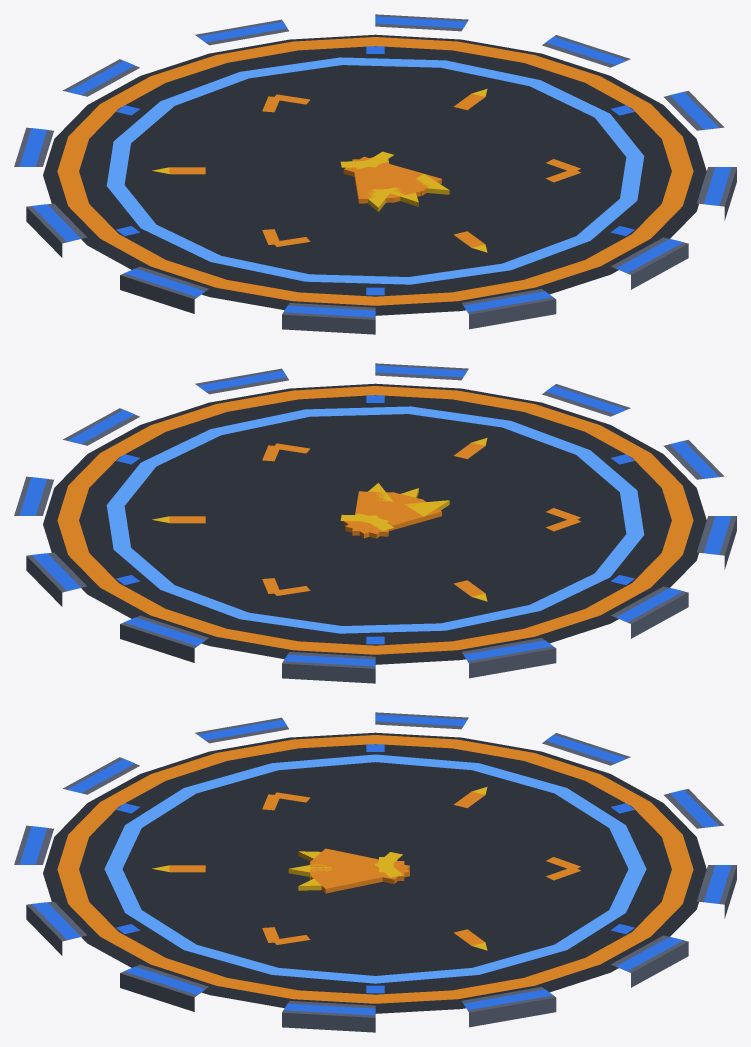
File: machine_gunner_super_rare_area.glb
3 renders of one model, top to bottom at view 1: azimuth 30°, elevation 25°; view 2: azimuth 150°, elevation 25°; view 3: azimuth 270°, elevation 25°, orthographic.
Parts seen in each view (by area): view 1: machine_gunner_super_rare_area; view 2: machine_gunner_super_rare_area; view 3: machine_gunner_super_rare_area.
Part boxes in pixels (<box>): machine_gunner_super_rare_area: <box>14,14,736,334</box>; machine_gunner_super_rare_area: <box>14,363,736,683</box>; machine_gunner_super_rare_area: <box>14,712,736,1032</box>.
Bounding box in the file's own units: 2 × 0.046 × 2.
Materials: 2 (2 with a texture image).
